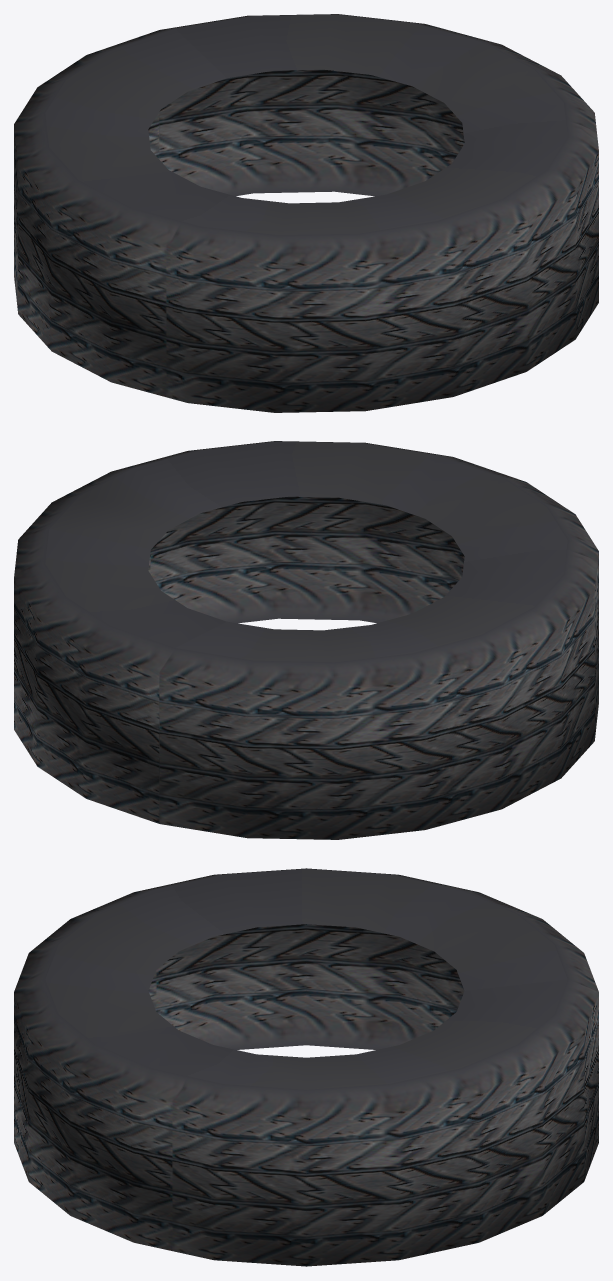
The model's file is tire.obj.
3 views of the same model, one above another, from view 1: azimuth 30°, elevation 25°; view 2: azimuth 150°, elevation 25°; view 3: azimuth 270°, elevation 25° (orthographic).
Parts seen in each view (by area): view 1: Object02; view 2: Object02; view 3: Object02.
Boxes of the visible parts, box(x1,y1,x2,y2) form: Object02: box(14, 14, 598, 412); Object02: box(14, 441, 598, 839); Object02: box(14, 868, 598, 1266).
Bounding box in the file's own units: 0.8016 × 0.2665 × 0.8016.
2 materials, 2 textured.
